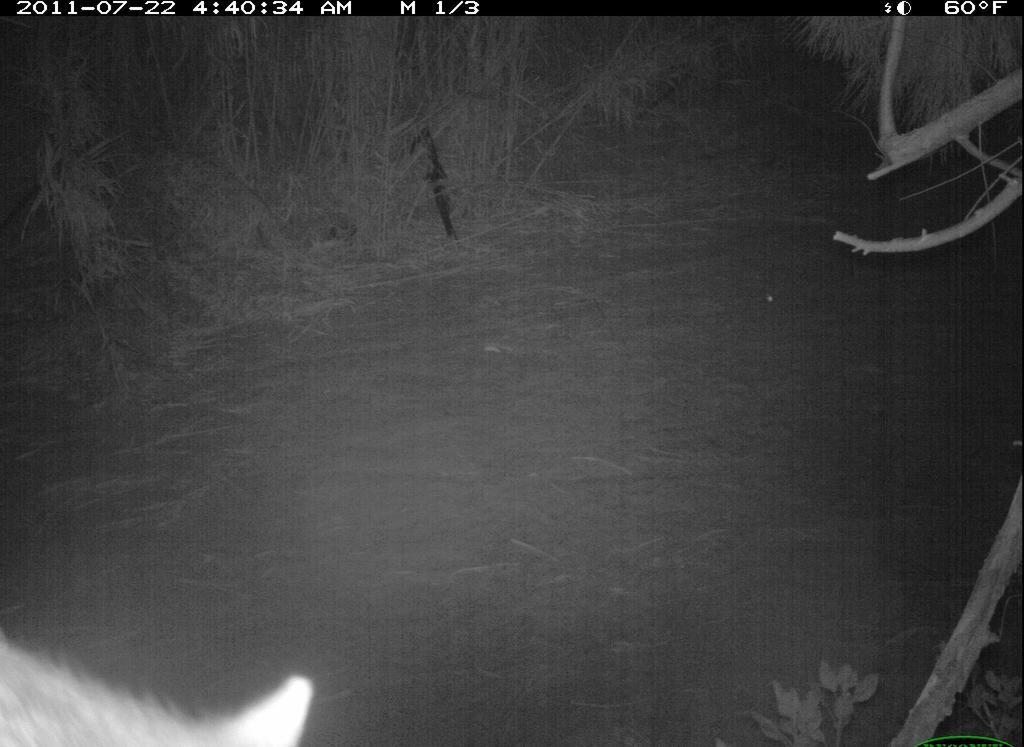raccoon: (1, 632, 346, 747)
